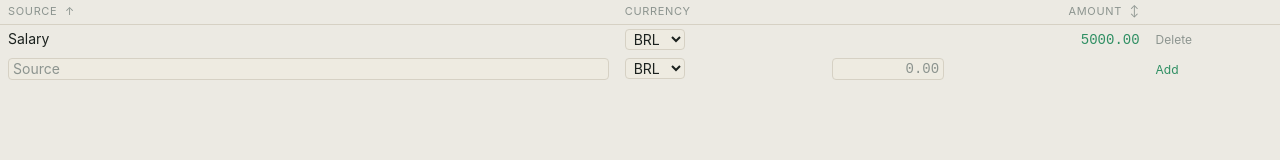
Scenario: IncomeList — delete › shows confirm/cancel after clicking Delete
The width and height of the screenshot is (1280, 160).
What coordinates should you click on to do the following:
click the button with aria-label "Delete Salary"
I would click on:
 (1174, 40)
Its box is x1=1156 y1=32 x2=1192 y2=48.
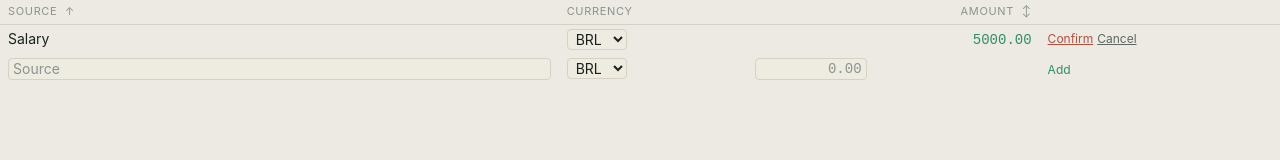
Expected: the button "Confirm" is shown, x1=1048 y1=31 x2=1093 y2=47
Expected: the button "Cancel" is shown, x1=1097 y1=31 x2=1137 y2=47
